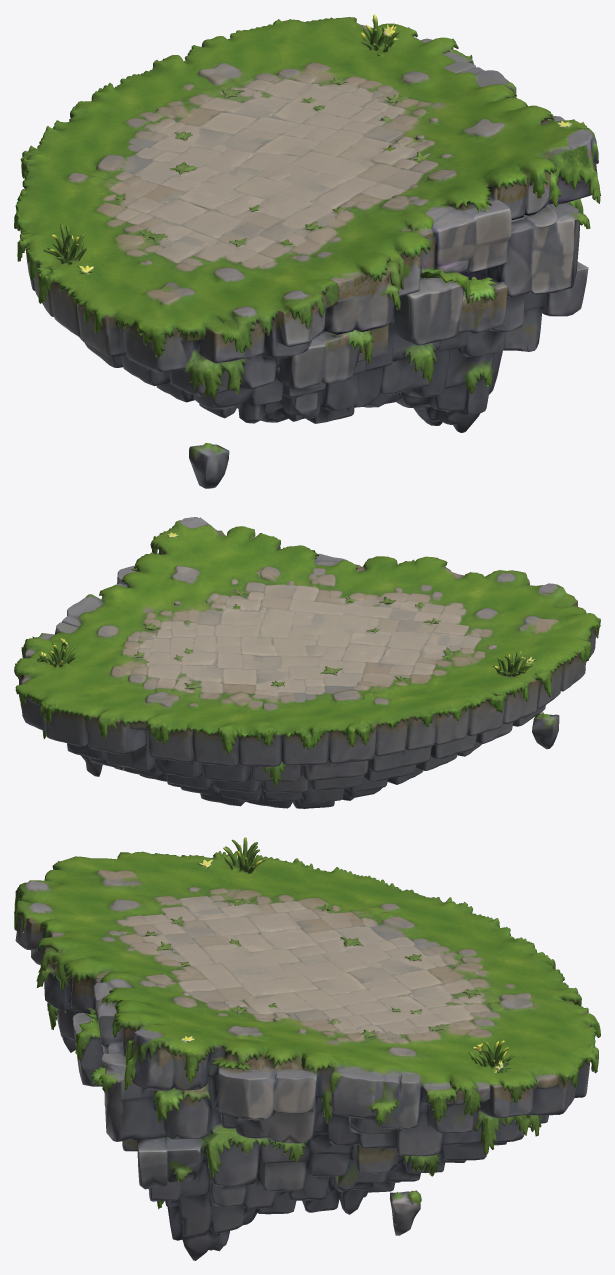
Rendered from island-detail.glb.
3 renders of one model, top to bottom at view 1: azimuth 30°, elevation 25°; view 2: azimuth 150°, elevation 25°; view 3: azimuth 270°, elevation 25°, orthographic. The views are drawn at different scales.
Visible parts, largest first — view 1: tripo_node_a02264bc-14dd-4587-8488-bdd92dcfaa37; view 2: tripo_node_a02264bc-14dd-4587-8488-bdd92dcfaa37; view 3: tripo_node_a02264bc-14dd-4587-8488-bdd92dcfaa37.
Boxes of the visible parts, bbox=[...] form: tripo_node_a02264bc-14dd-4587-8488-bdd92dcfaa37: bbox=[14, 14, 600, 488]; tripo_node_a02264bc-14dd-4587-8488-bdd92dcfaa37: bbox=[14, 517, 600, 808]; tripo_node_a02264bc-14dd-4587-8488-bdd92dcfaa37: bbox=[14, 837, 600, 1260].
Size of the model in its own units: 4.93 by 2.5 by 4.94.
1 material, 1 textured.
